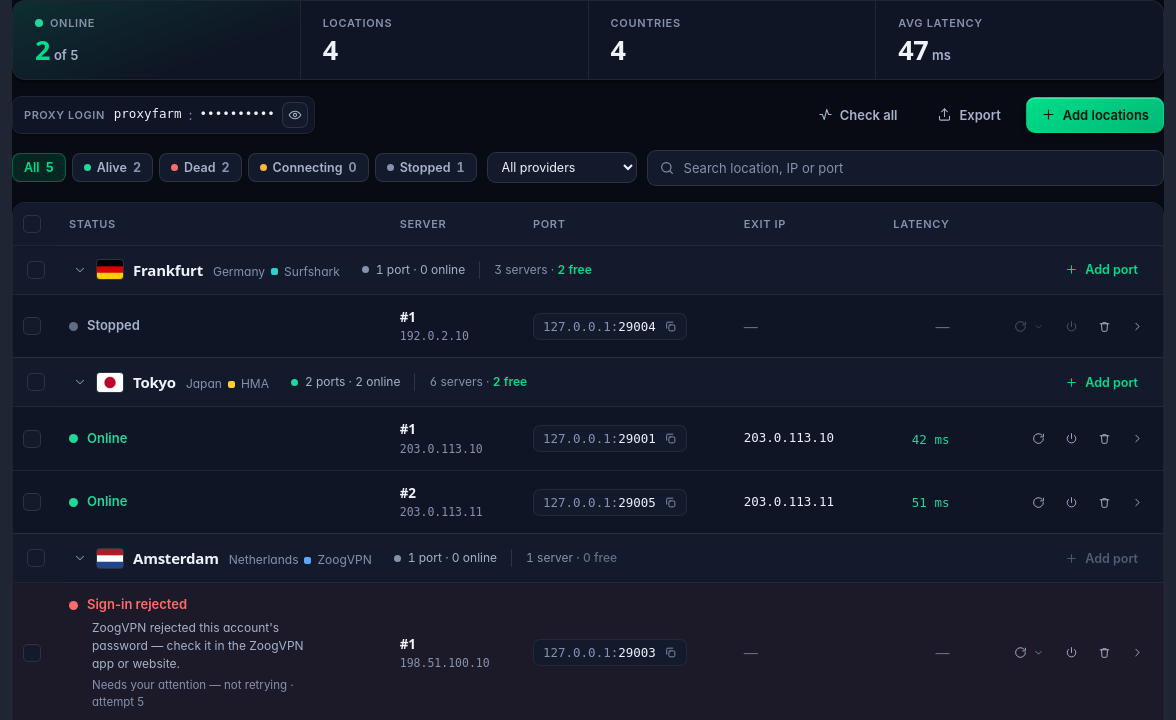
MainScreen › tells the user when fewer ports than asked could be added
The image size is (1176, 720).
Expected: the row with test id "port-row-hma:JP-TOKYO#1" is shown, [13,407,1163,470]
Click the button with test id "add-port-hma:JP-TOKYO": (1102, 382) [1054,367,1149,397]
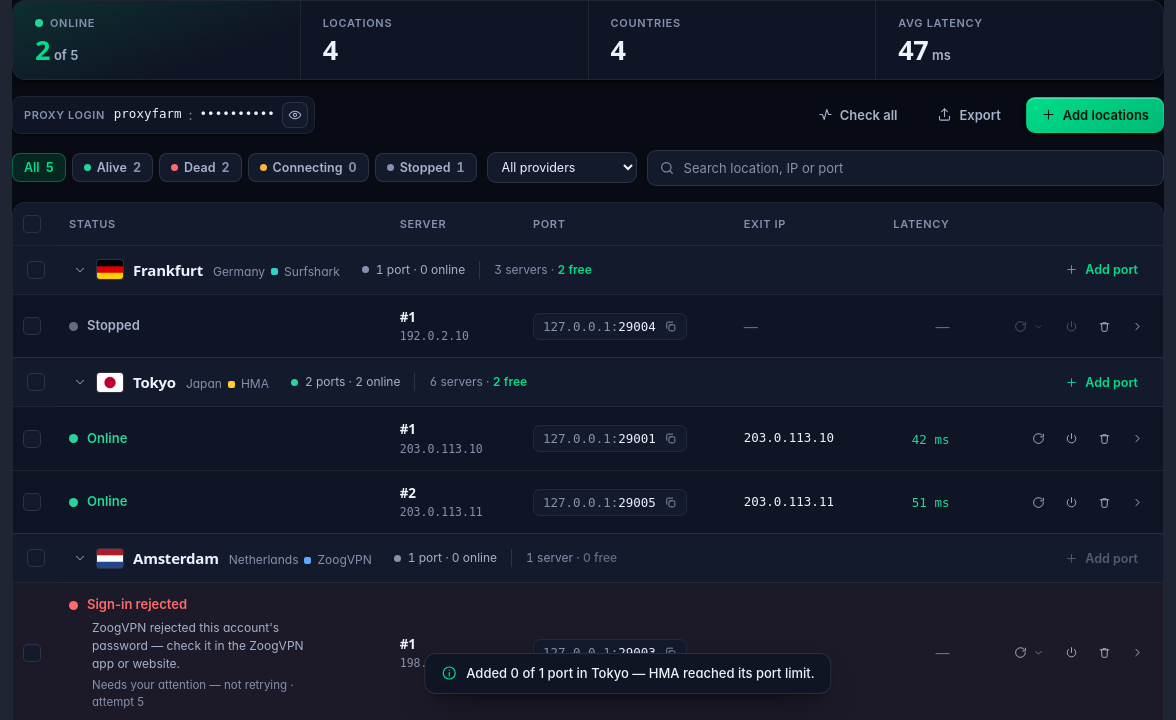
Now the message with test id "notice-toast" reads "Added 0 of 1 port in Tokyo — HMA reached its port limit.", box [466,664,815,680]
